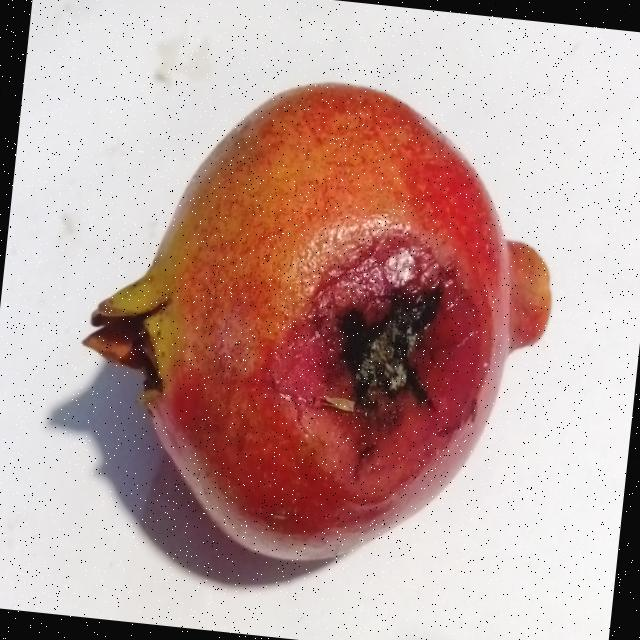Rotten: (64, 55, 575, 591)
